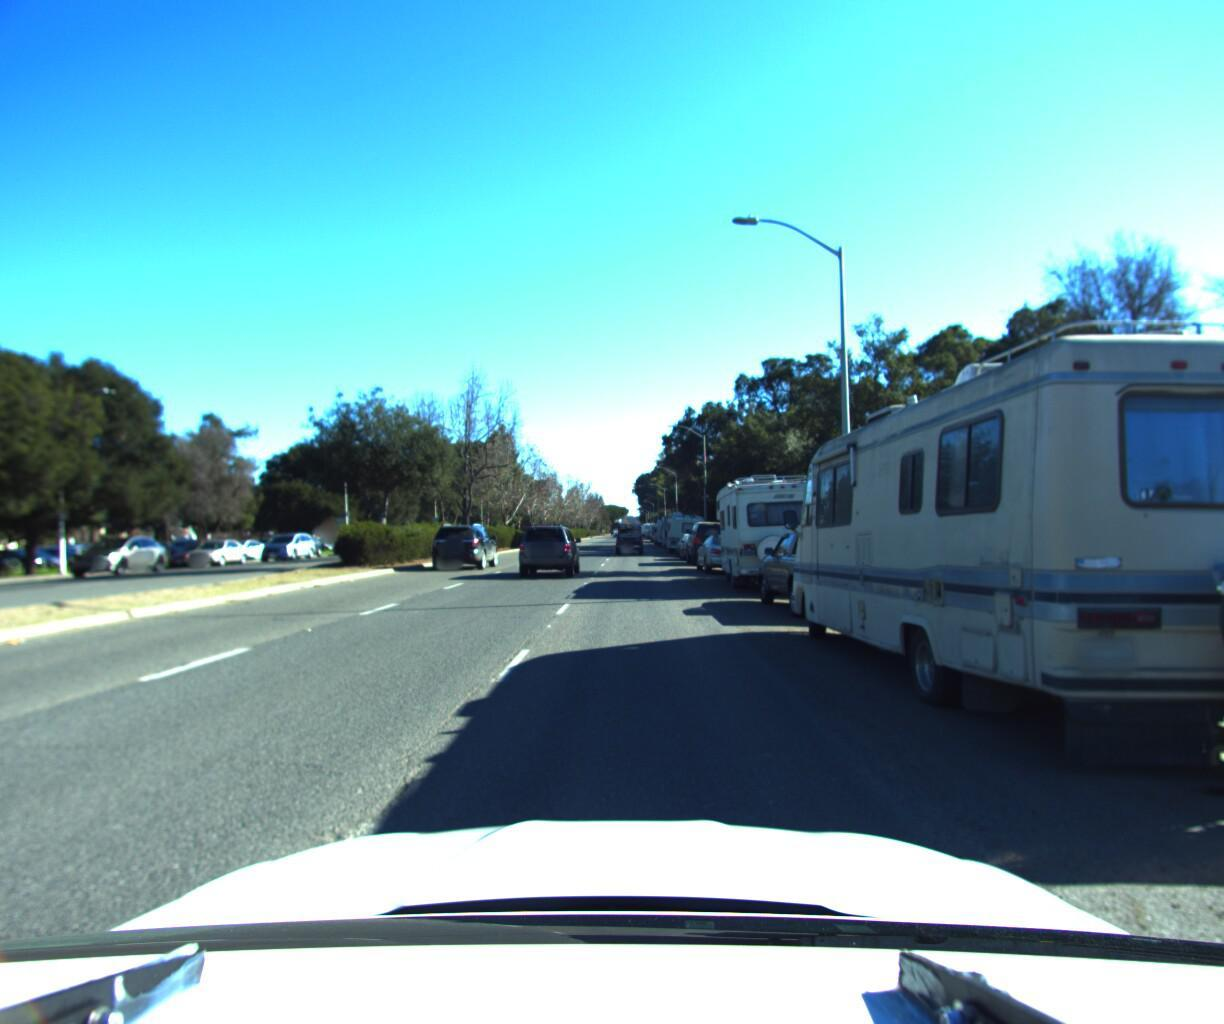car: (747, 522, 915, 626), (64, 534, 173, 579), (506, 519, 578, 579), (421, 522, 498, 570), (690, 528, 761, 573), (684, 516, 741, 563), (178, 539, 256, 569), (164, 539, 232, 567), (257, 532, 318, 561), (215, 540, 270, 566), (609, 517, 645, 553), (673, 530, 710, 556), (0, 547, 5, 601)
other_vehicle: (769, 236, 1224, 839), (708, 455, 854, 595), (665, 507, 703, 552), (659, 505, 696, 545), (654, 513, 686, 543)
